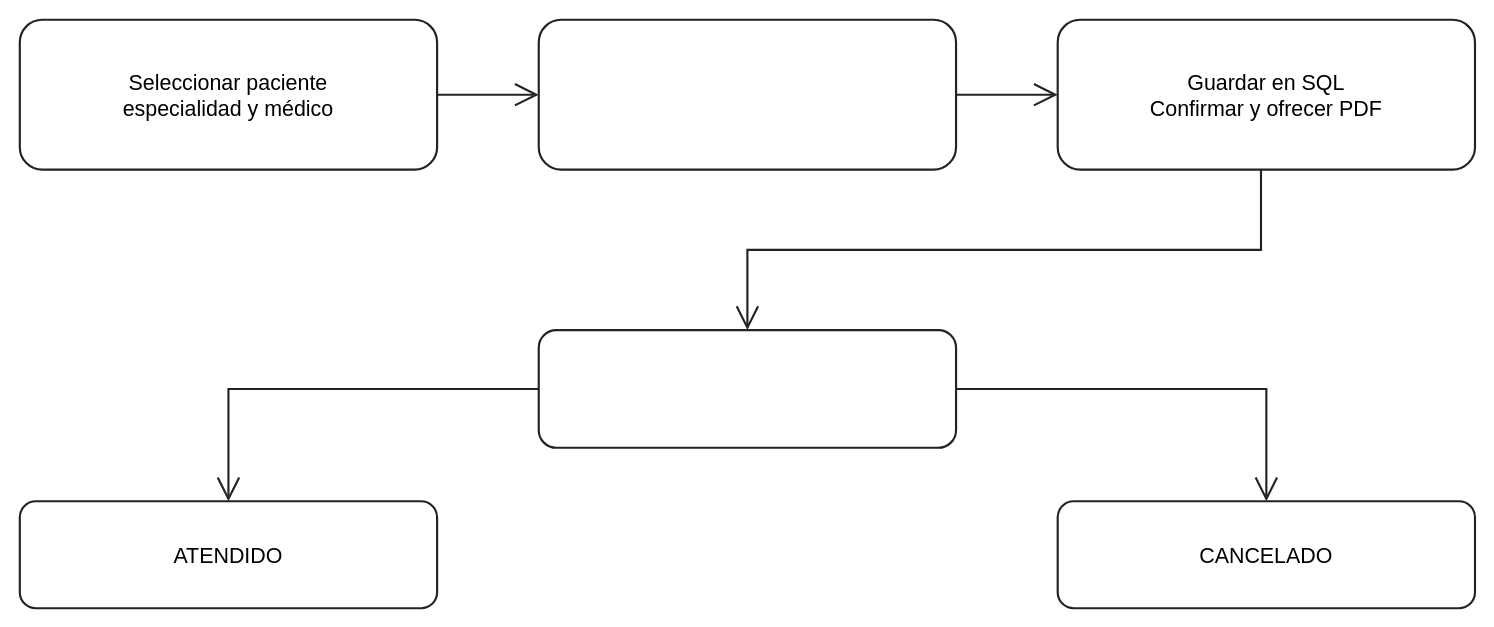
Some shapes in this 1494 by 627 pixel diagram are drawn without their labels. Here are the shapes that lost their labels. From the top down, the box of each, then its label:
(537, 18, 957, 170): Elegir día y hora Validar cupos y ausencias
(537, 328, 957, 448): PENDIENTE
